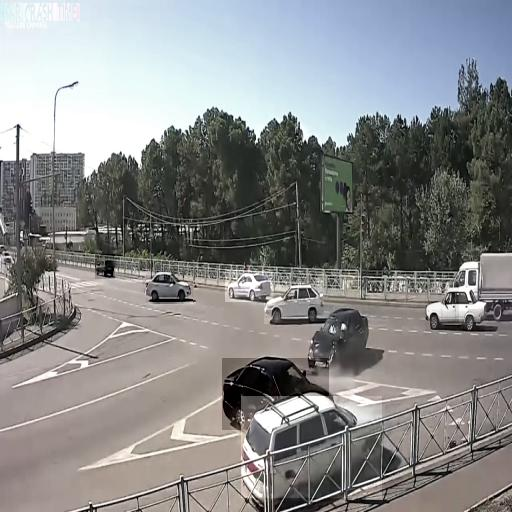小汽车: (241, 396, 382, 498), (222, 358, 329, 430), (309, 304, 369, 372), (459, 255, 512, 322), (425, 284, 484, 332), (264, 281, 324, 324), (225, 270, 273, 302), (146, 272, 193, 304), (95, 254, 115, 279)
